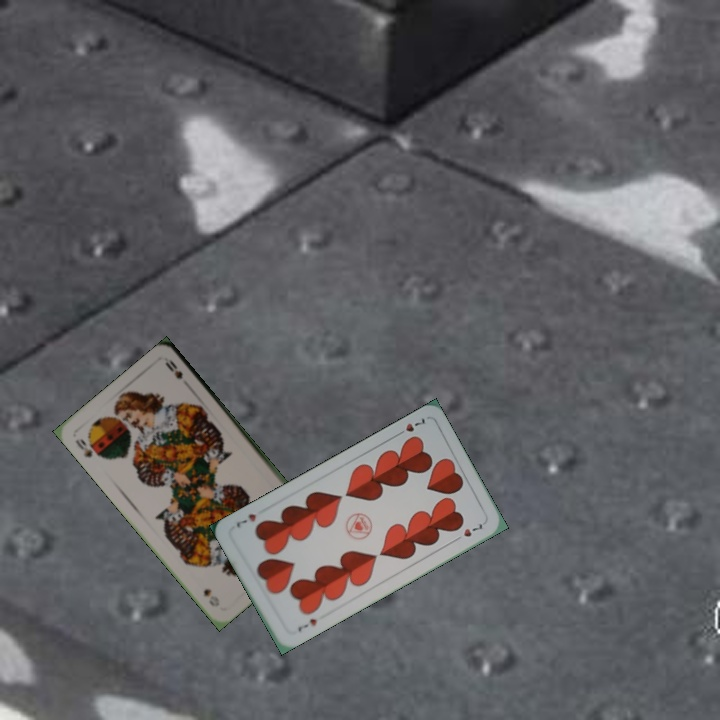H7: (391, 414, 428, 439), (293, 614, 319, 634)
SO: (71, 434, 102, 460)
